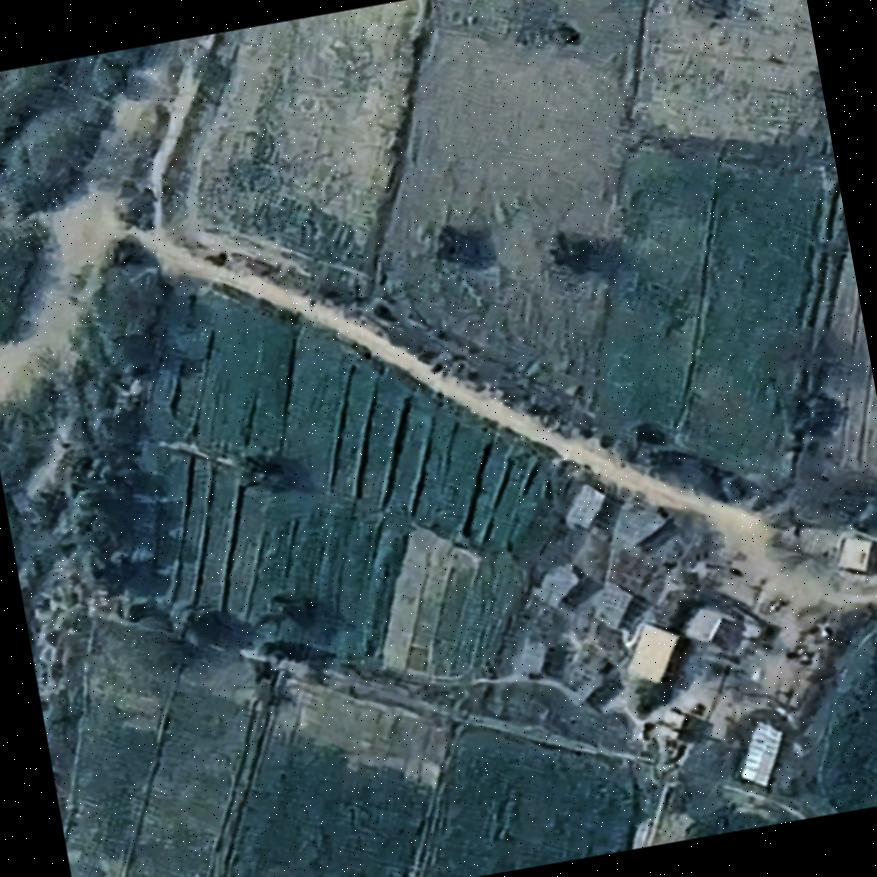Solarpanel: (734, 713, 787, 794), (589, 577, 637, 633), (563, 479, 609, 532), (536, 560, 583, 604)
